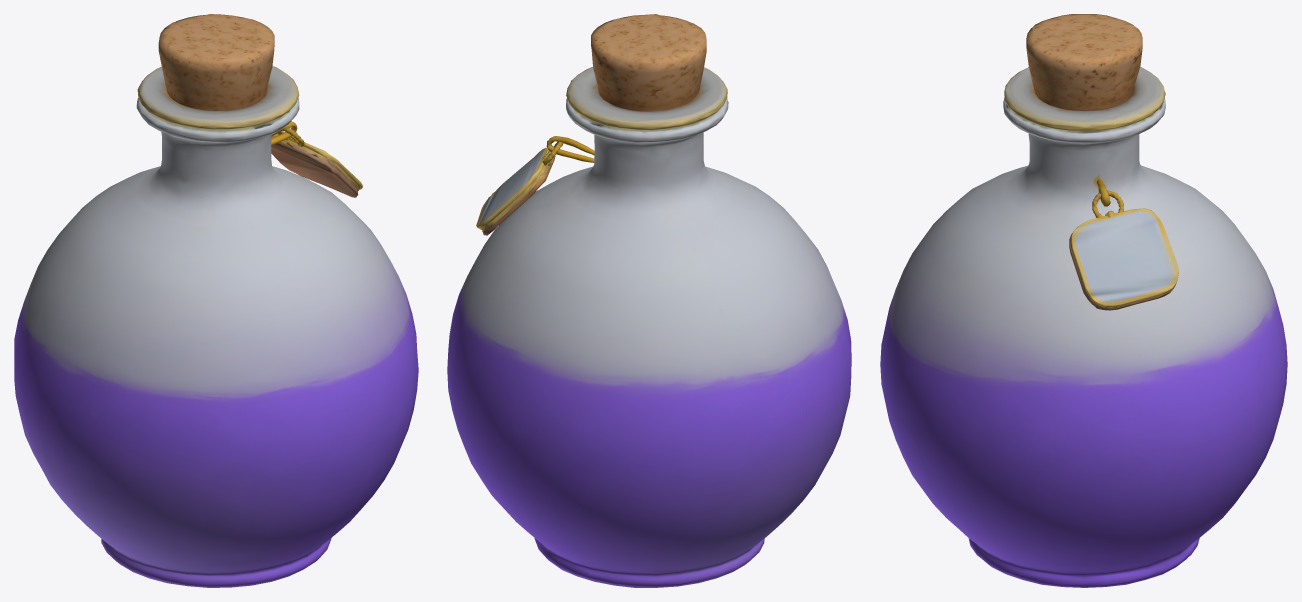
The model's file is r33-potion.glb.
3 views of the same model, side by side, from view 1: azimuth 30°, elevation 25°; view 2: azimuth 150°, elevation 25°; view 3: azimuth 270°, elevation 25° (orthographic).
Parts seen in each view (by area): view 1: tripo_node_126d4740-81d9-4e00-ac1d-6dc88c1394e4; view 2: tripo_node_126d4740-81d9-4e00-ac1d-6dc88c1394e4; view 3: tripo_node_126d4740-81d9-4e00-ac1d-6dc88c1394e4.
Boxes of the visible parts, x1,y1,x2,y2 form: tripo_node_126d4740-81d9-4e00-ac1d-6dc88c1394e4: (14,14,418,587); tripo_node_126d4740-81d9-4e00-ac1d-6dc88c1394e4: (447,14,851,587); tripo_node_126d4740-81d9-4e00-ac1d-6dc88c1394e4: (880,14,1287,587).
Size of the model in its own units: 0.7246 by 0.998 by 0.7246.
Materials: 1 (1 with a texture image).
